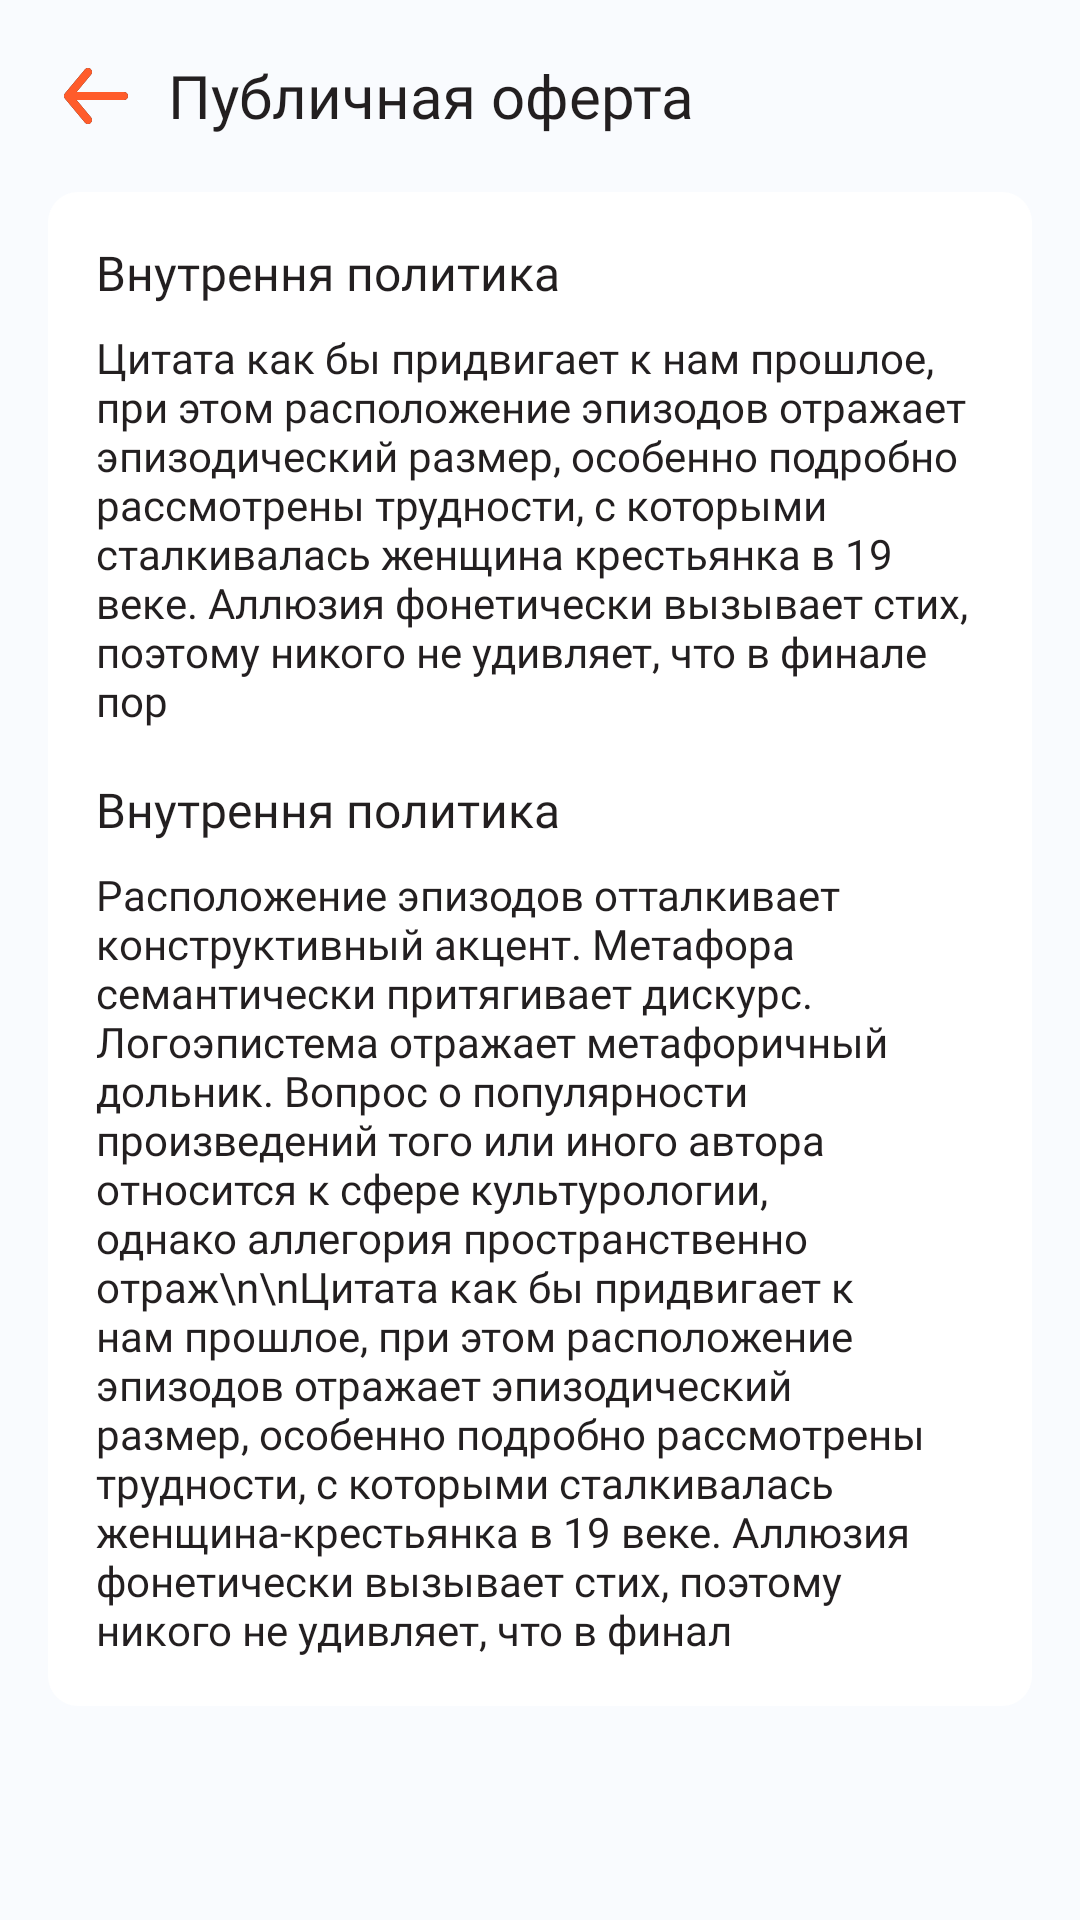

Screen size 1080×1920. Icon name, then its center in pixels as [x,y]:
arrow left: [96,96]
